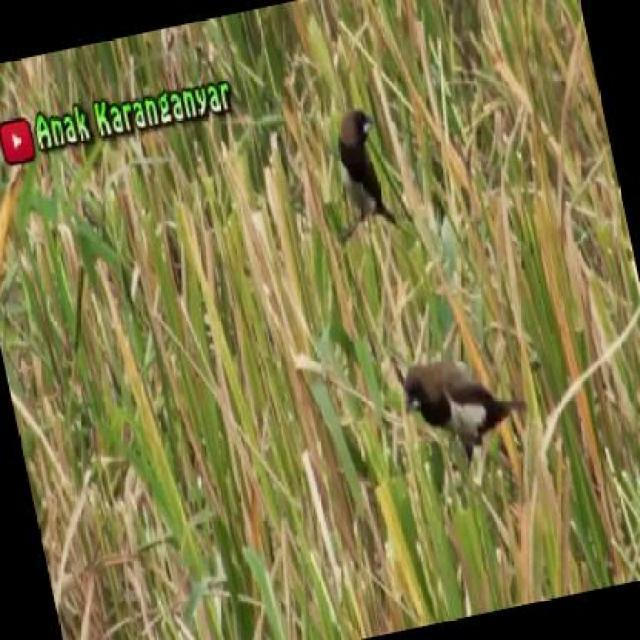Bird: (389, 346, 531, 470), (321, 105, 406, 246)
